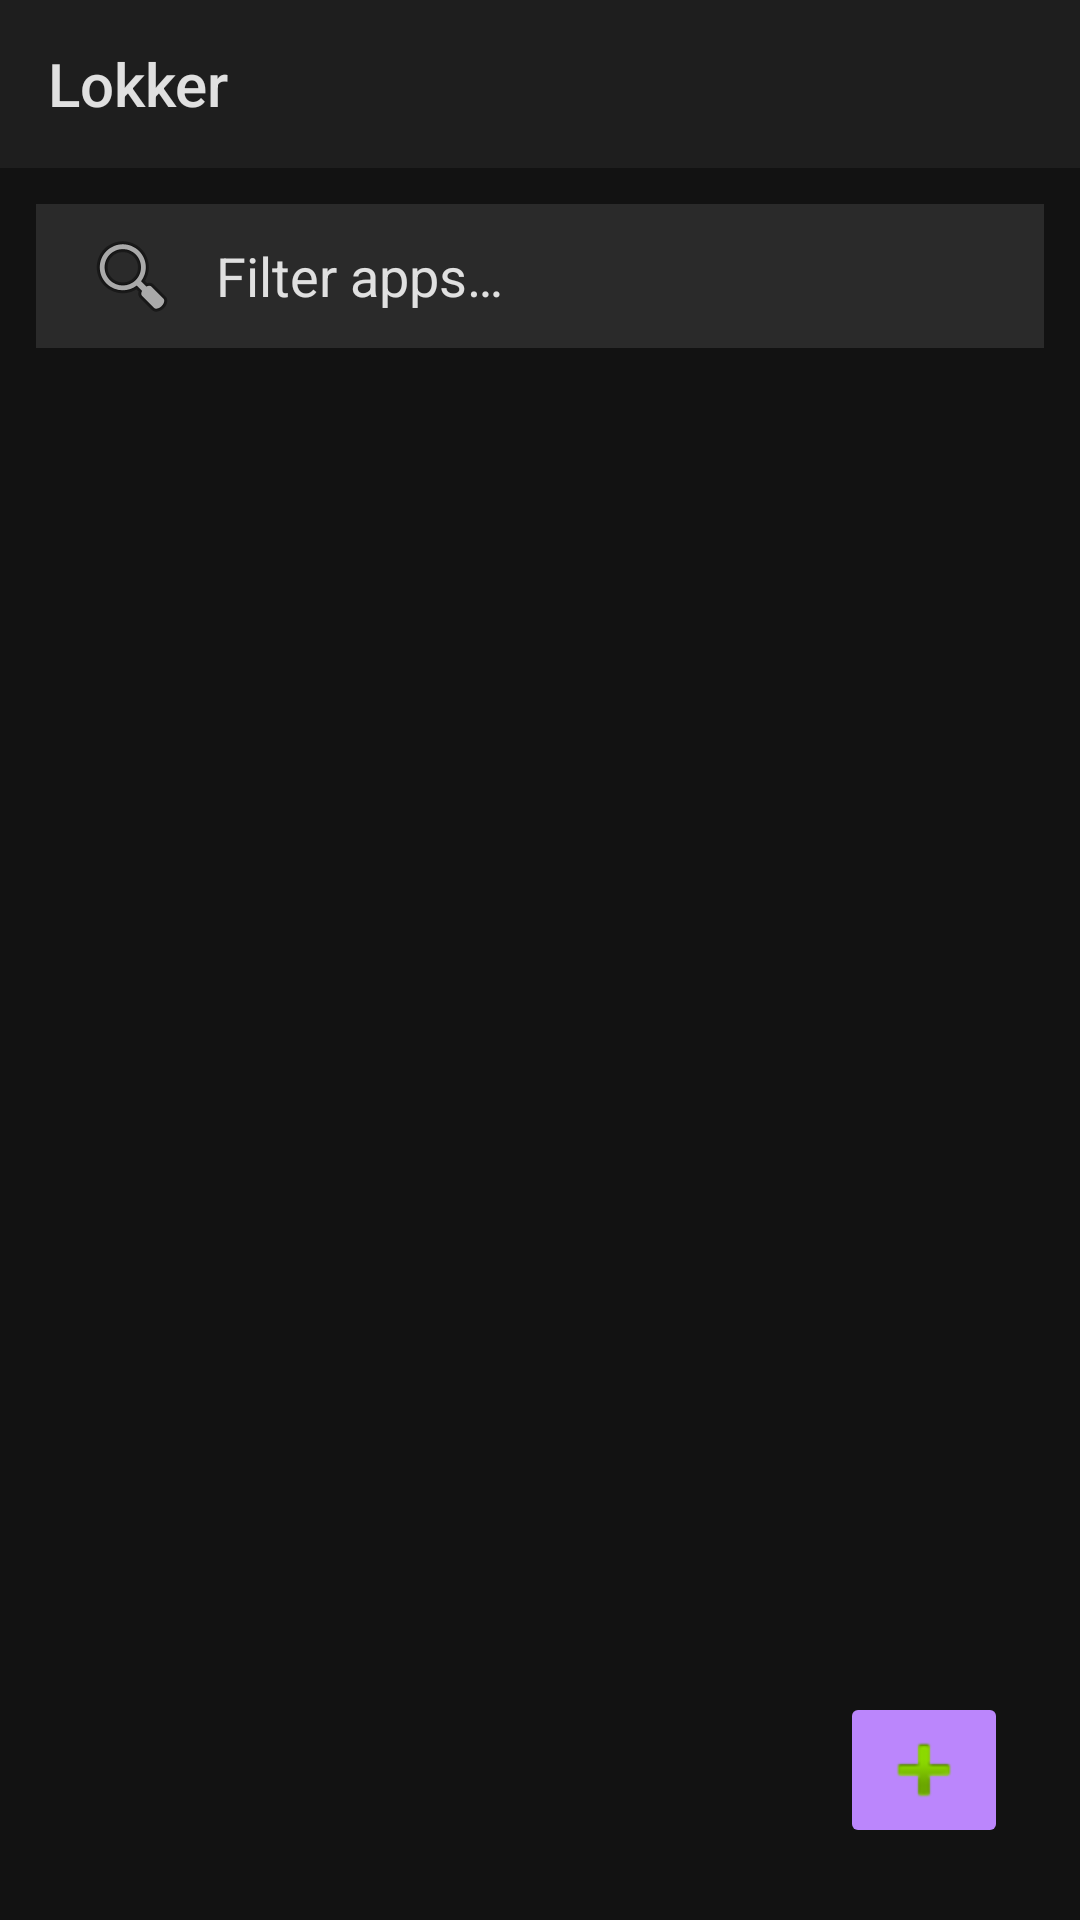

Where to tap for icons on this 1080×1920 app screen, as point (x, y):
Add: point (924, 1770)
